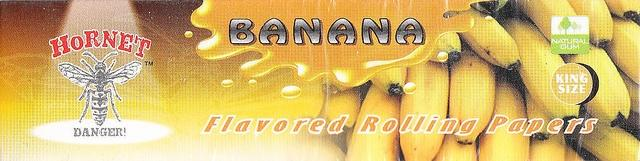banana: (493, 16, 581, 123), (448, 33, 496, 146), (567, 43, 630, 127), (400, 59, 450, 161), (444, 7, 523, 70), (478, 68, 530, 161), (346, 82, 403, 161), (514, 0, 578, 43), (603, 14, 640, 86), (582, 122, 640, 161), (567, 0, 613, 48), (613, 63, 640, 140), (324, 86, 360, 128), (530, 126, 566, 160), (433, 134, 477, 161), (369, 67, 408, 97), (429, 32, 462, 64), (606, 0, 640, 19), (471, 0, 508, 13), (565, 146, 585, 161)
